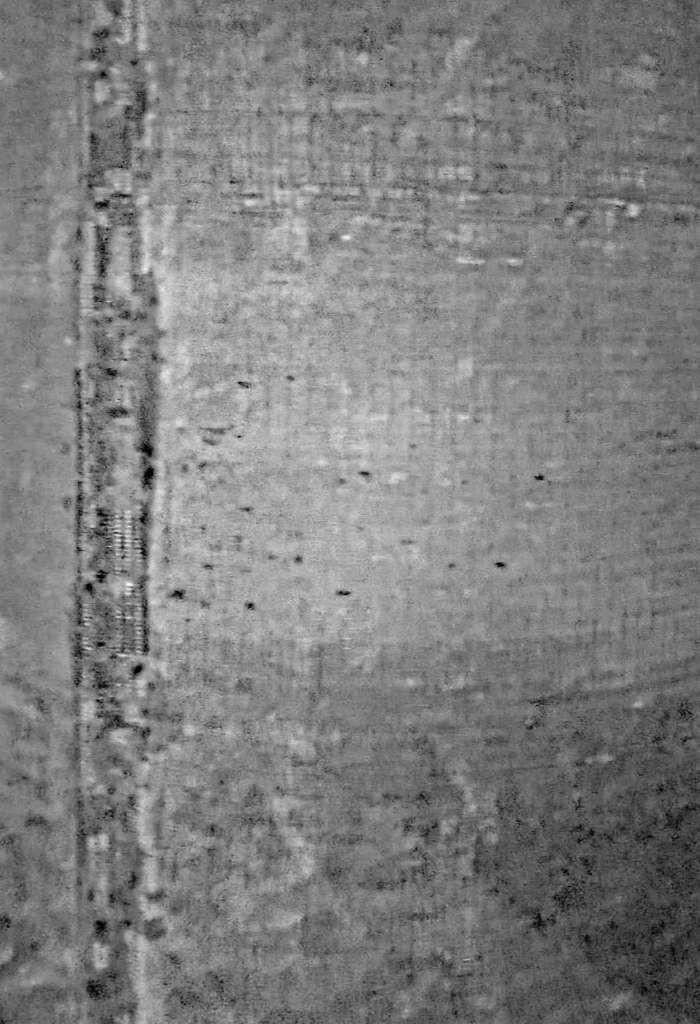splice: (60, 3, 163, 1024)
